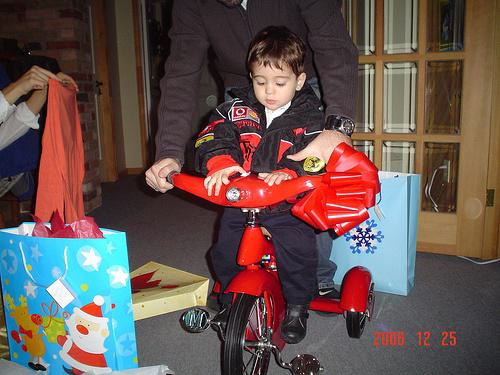car: (146, 143, 387, 375)
person: (146, 1, 360, 297), (196, 26, 317, 337), (1, 69, 80, 155)
